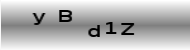1: (104, 21, 116, 34)
B: (58, 8, 73, 22)
Z: (120, 22, 134, 35)
d: (87, 24, 100, 37)
y: (30, 12, 46, 26)
